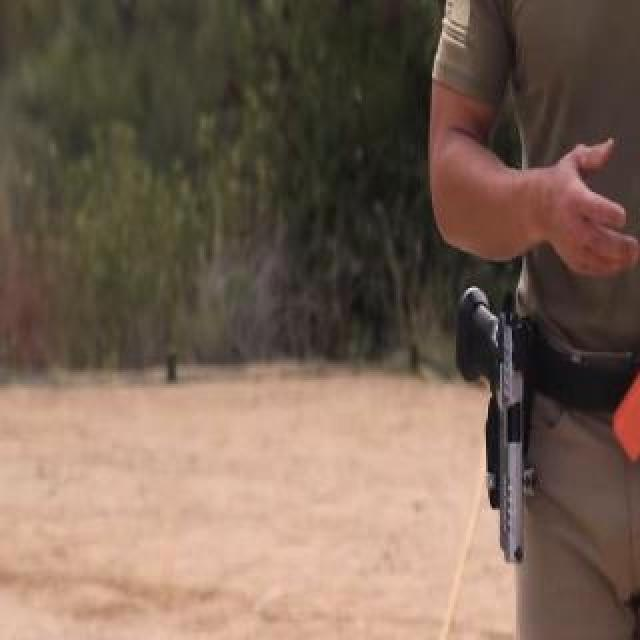Guns: (438, 262, 564, 594)
